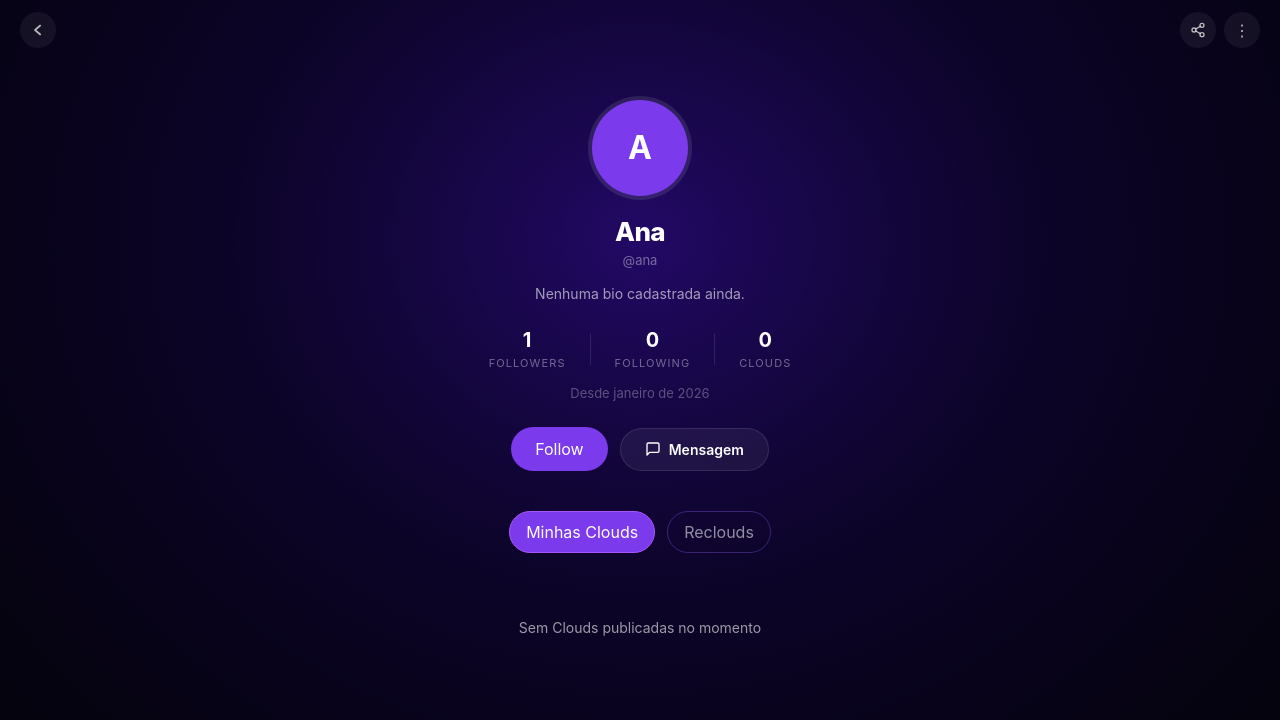
Test case: profile follow counters › updates after successful follow and unfollow without waiting for polling
Click the button "Follow".
click(559, 449)  # box [511,427,608,471]
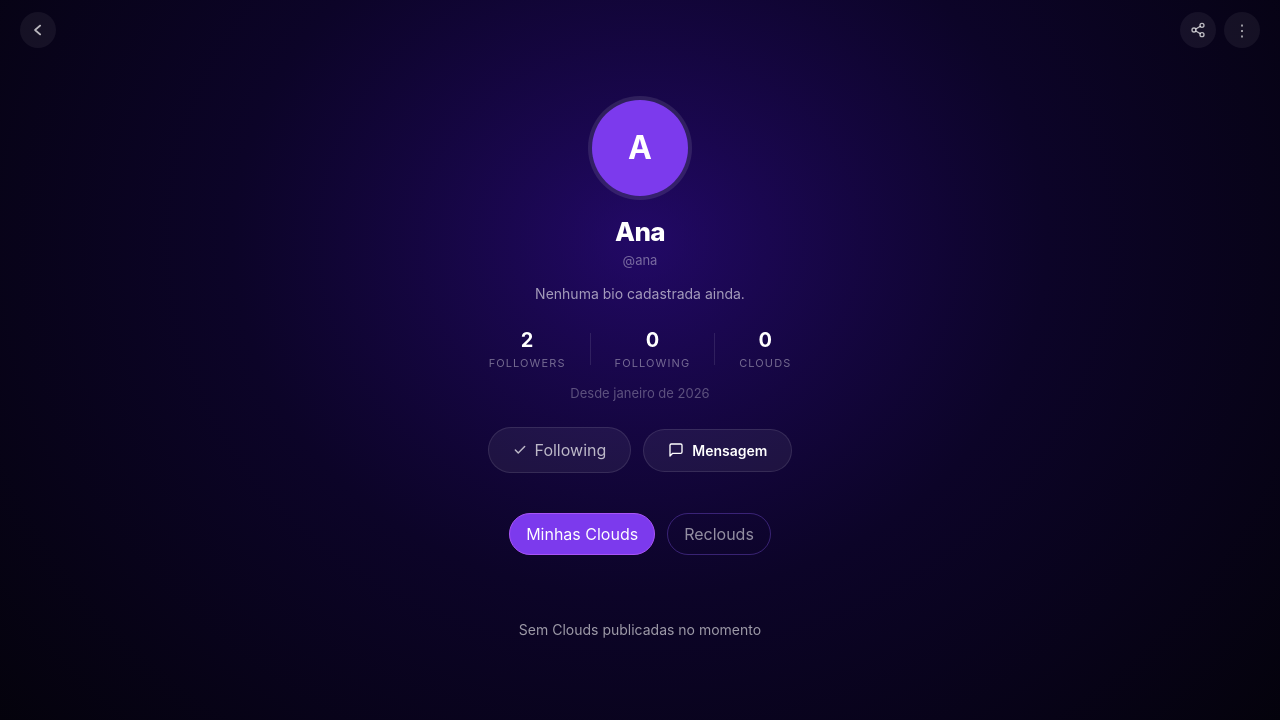
Expected: the text "2" is shown, [521,328,533,352]
Now the button "Following" is shown
Click the button "Following".
click(559, 450)  # box [488,427,631,473]
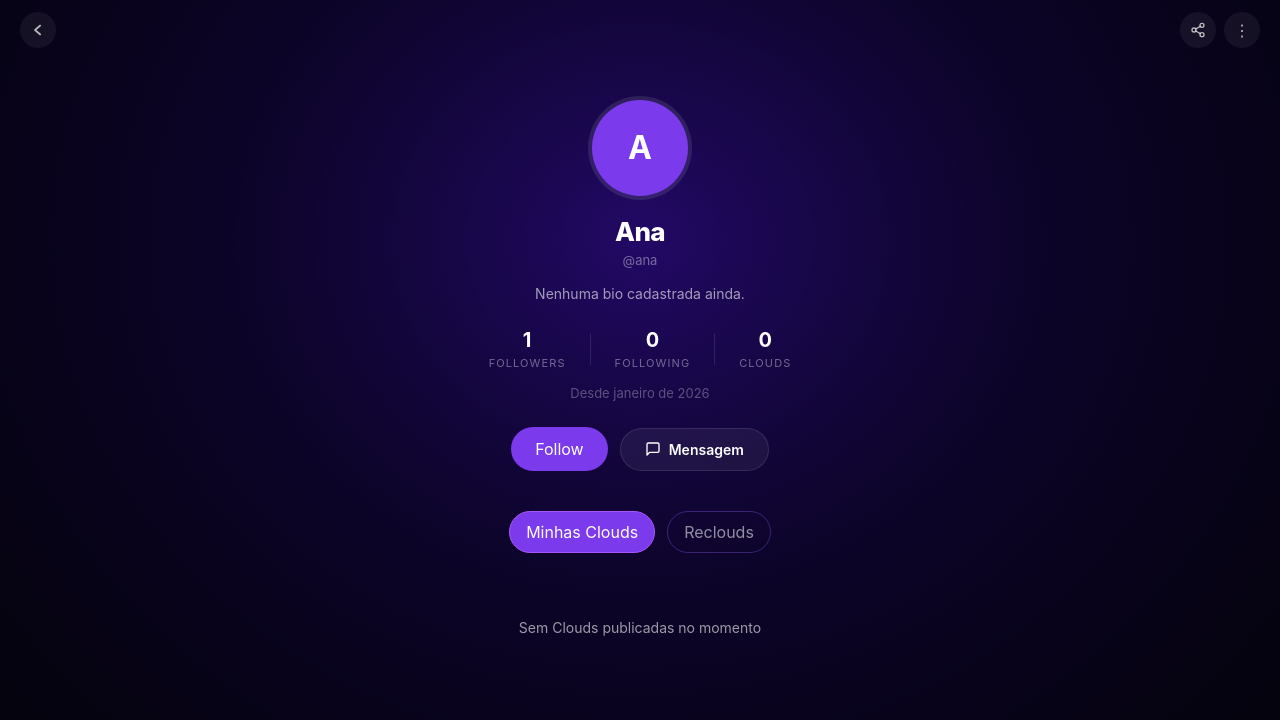
Expected: the button "Follow" is shown, [511,427,608,471]
Now the text "1" is shown, box [523,328,531,352]
